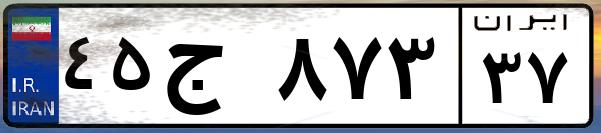3: (385, 28, 445, 110), (475, 38, 525, 113)
4: (57, 26, 110, 100)
5: (110, 28, 158, 98)
7: (330, 28, 385, 110), (525, 38, 570, 115)
8: (270, 28, 330, 110)
ج: (158, 20, 270, 120)
